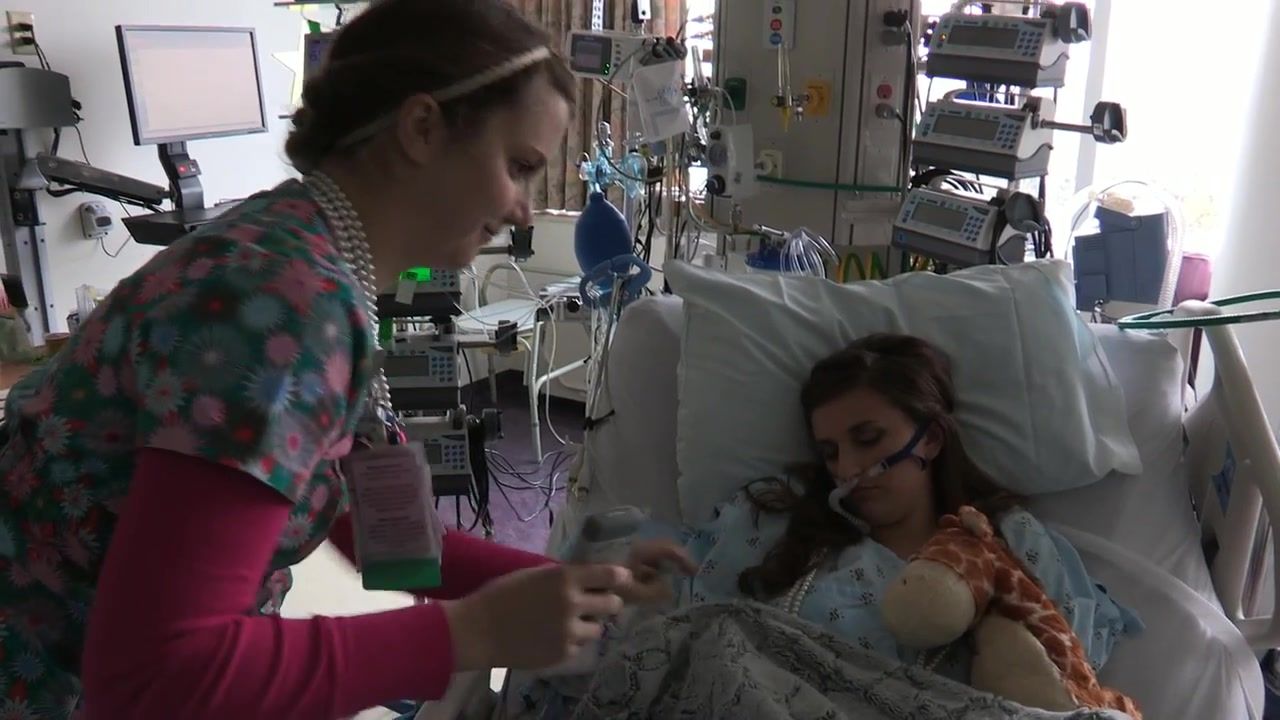bedrail: (1171, 299, 1267, 645), (413, 663, 505, 720)
breathing_tube: (1028, 508, 1266, 705), (1138, 175, 1189, 315)
computer: (112, 24, 269, 146)
hospital_bed: (415, 255, 1279, 720)
patient: (681, 330, 1101, 720)
staff: (1, 1, 698, 694)
syringe_pump: (912, 88, 1057, 180), (926, 15, 1069, 87), (891, 182, 1001, 267), (373, 337, 462, 411), (393, 415, 473, 496), (371, 266, 461, 315)
